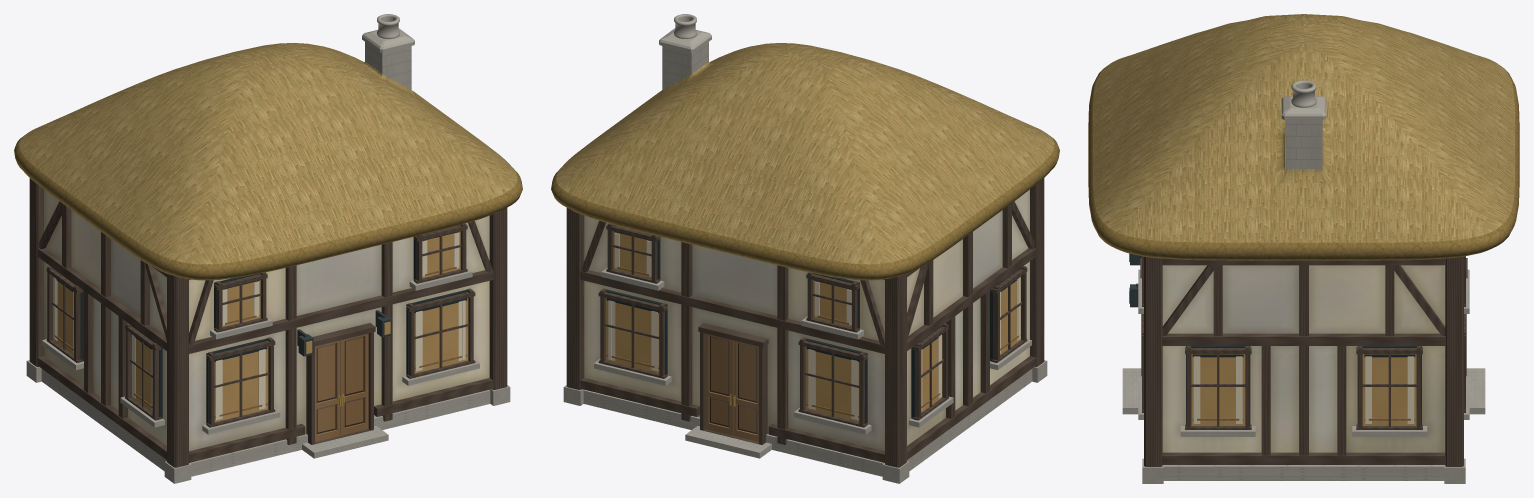
Rendered from pub.glb.
The picture shows the model from 3 angles, left to right: view 1: azimuth 30°, elevation 25°; view 2: azimuth 150°, elevation 25°; view 3: azimuth 270°, elevation 25°; orthographic projection. The views are drawn at different scales.
Visible parts, largest first — view 1: PubBody; view 2: PubBody; view 3: PubBody.
Boxes of the visible parts, x1,y1,x2,y2 form: PubBody: (14, 14, 522, 483); PubBody: (551, 14, 1059, 483); PubBody: (1088, 14, 1519, 483).
Bounding box in the file's own units: 9.24 × 8.18 × 8.54.
1 material, 1 textured.
